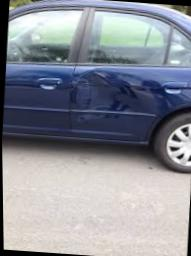Door: (69, 67, 173, 124)
